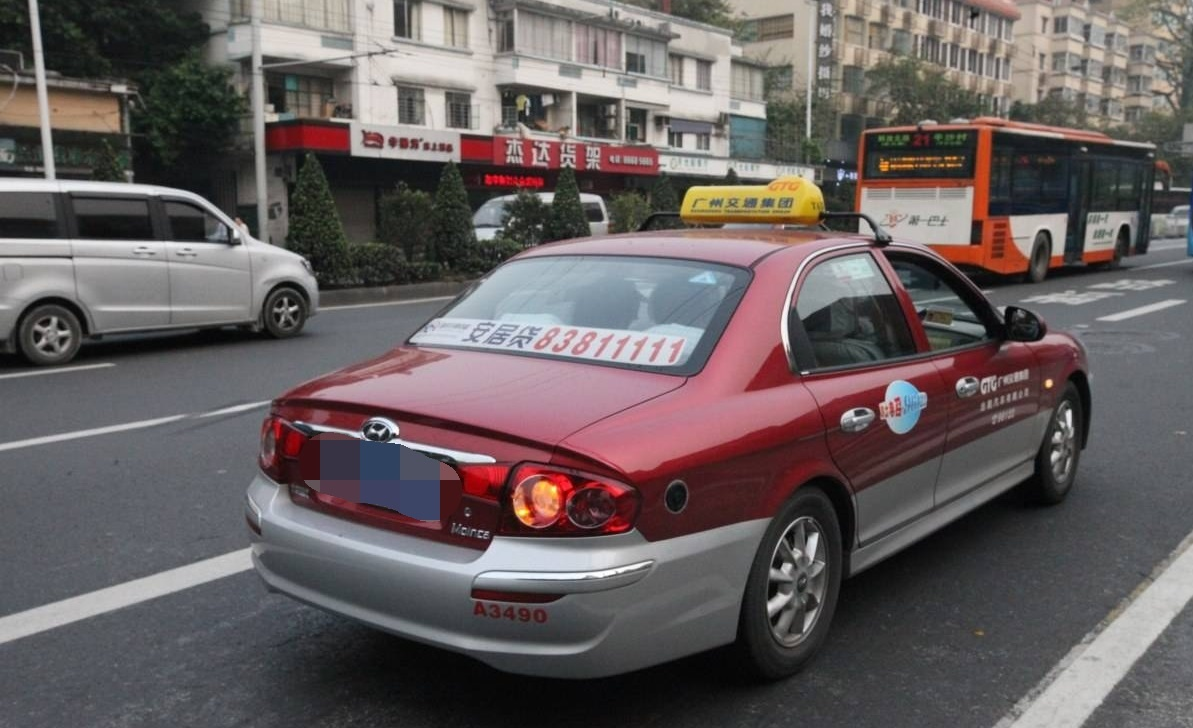bus: (835, 99, 1171, 275)
minibus: (6, 163, 324, 367)
taxi: (208, 220, 1098, 656)
